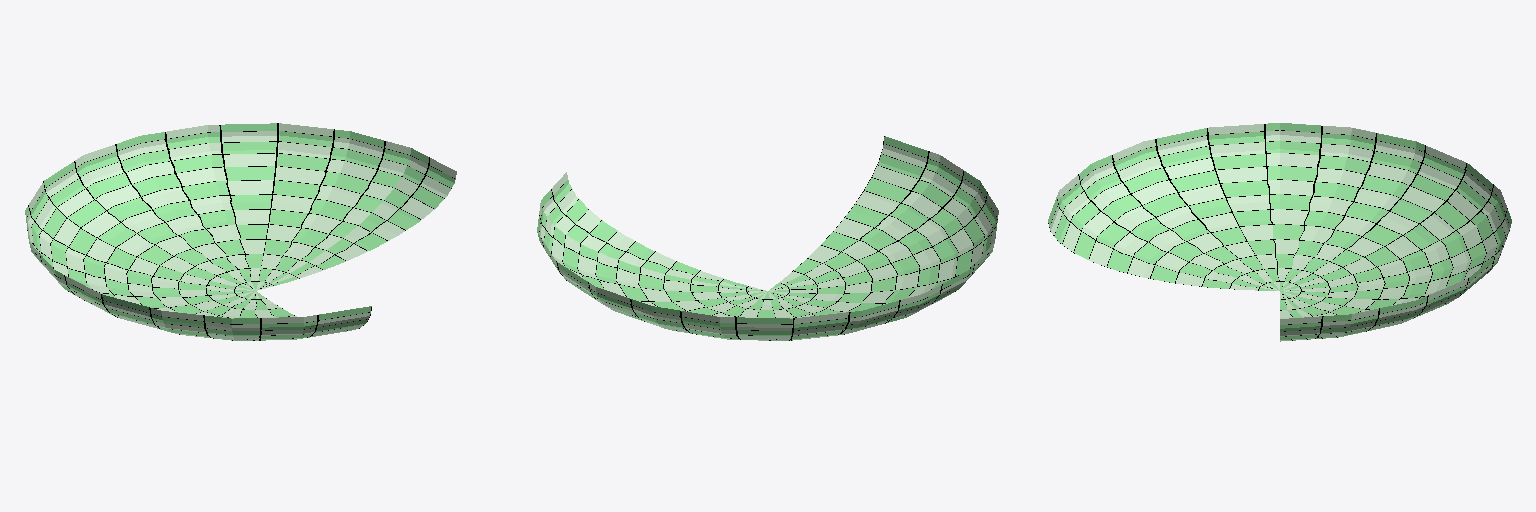
The picture shows the model from 3 angles: view 1: azimuth 30°, elevation 25°; view 2: azimuth 150°, elevation 25°; view 3: azimuth 270°, elevation 25°; orthographic projection.
Visible parts, largest first — view 1: pSphere1; view 2: pSphere1; view 3: pSphere1.
Boxes of the visible parts, x1,y1,x2,y2 form: pSphere1: [25, 123, 456, 340]; pSphere1: [537, 136, 998, 340]; pSphere1: [1048, 123, 1511, 341].
Bounding box in the file's own units: 120 × 20 × 120.
1 materials, 1 textured.